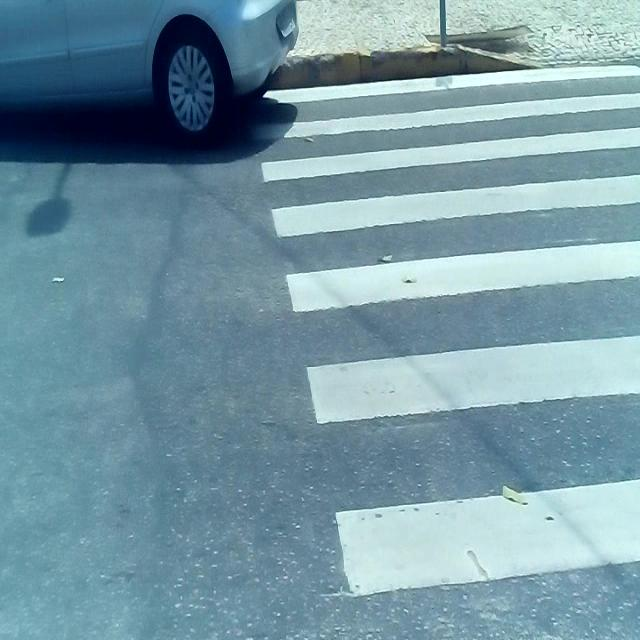crosswalk: (244, 56, 640, 640)
